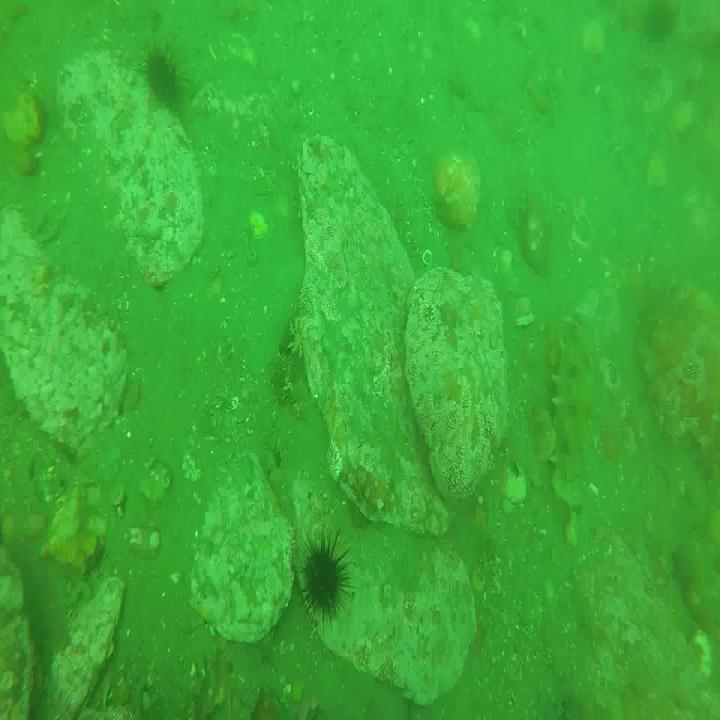echinus: (300, 534, 347, 618), (148, 49, 186, 109)
holothurian: (552, 316, 595, 501)
